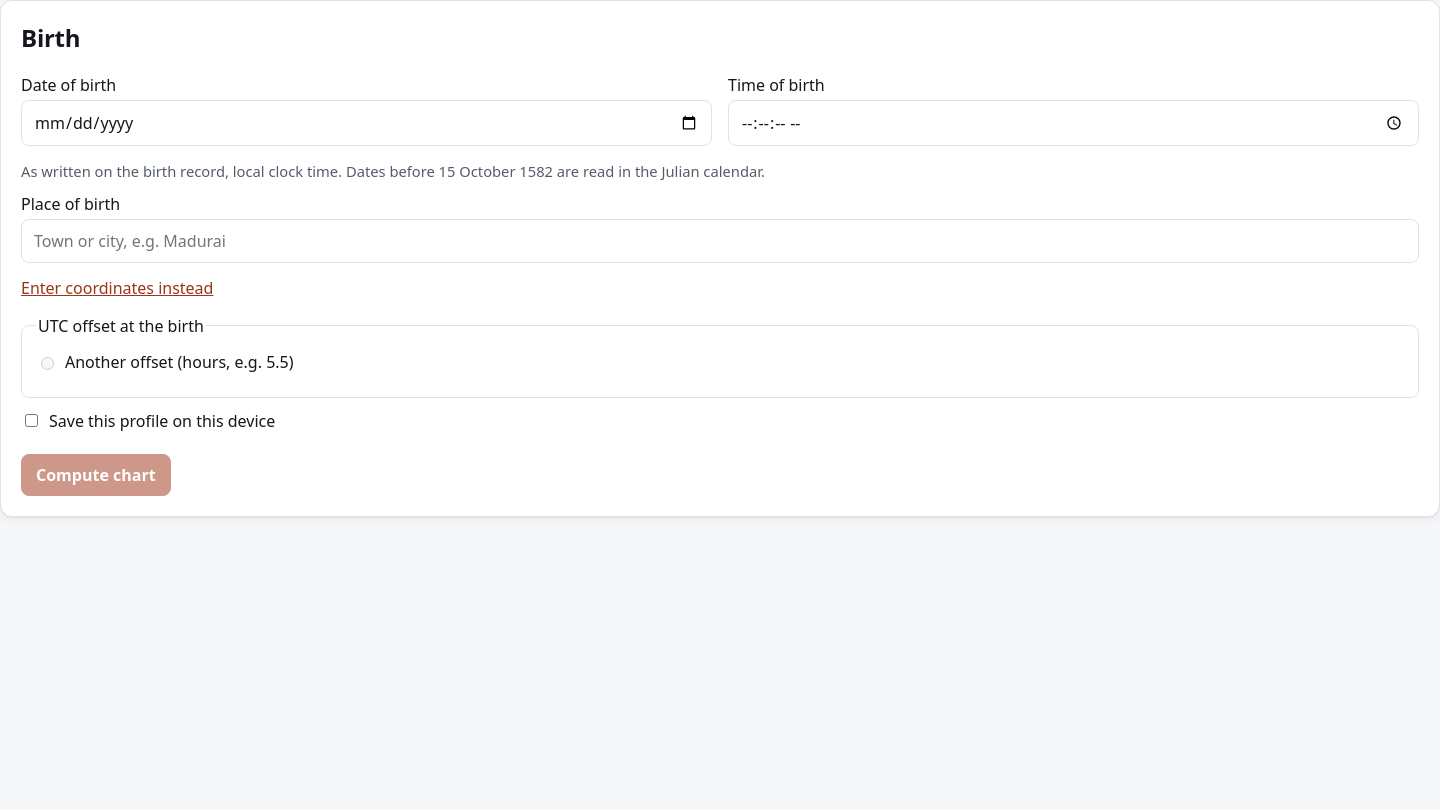
BirthForm › preselects only a reliable, unique offset
Type "1943-05-05" into the date field labelled "Date of birth" at x=366, y=123, box [21,100,712,146]
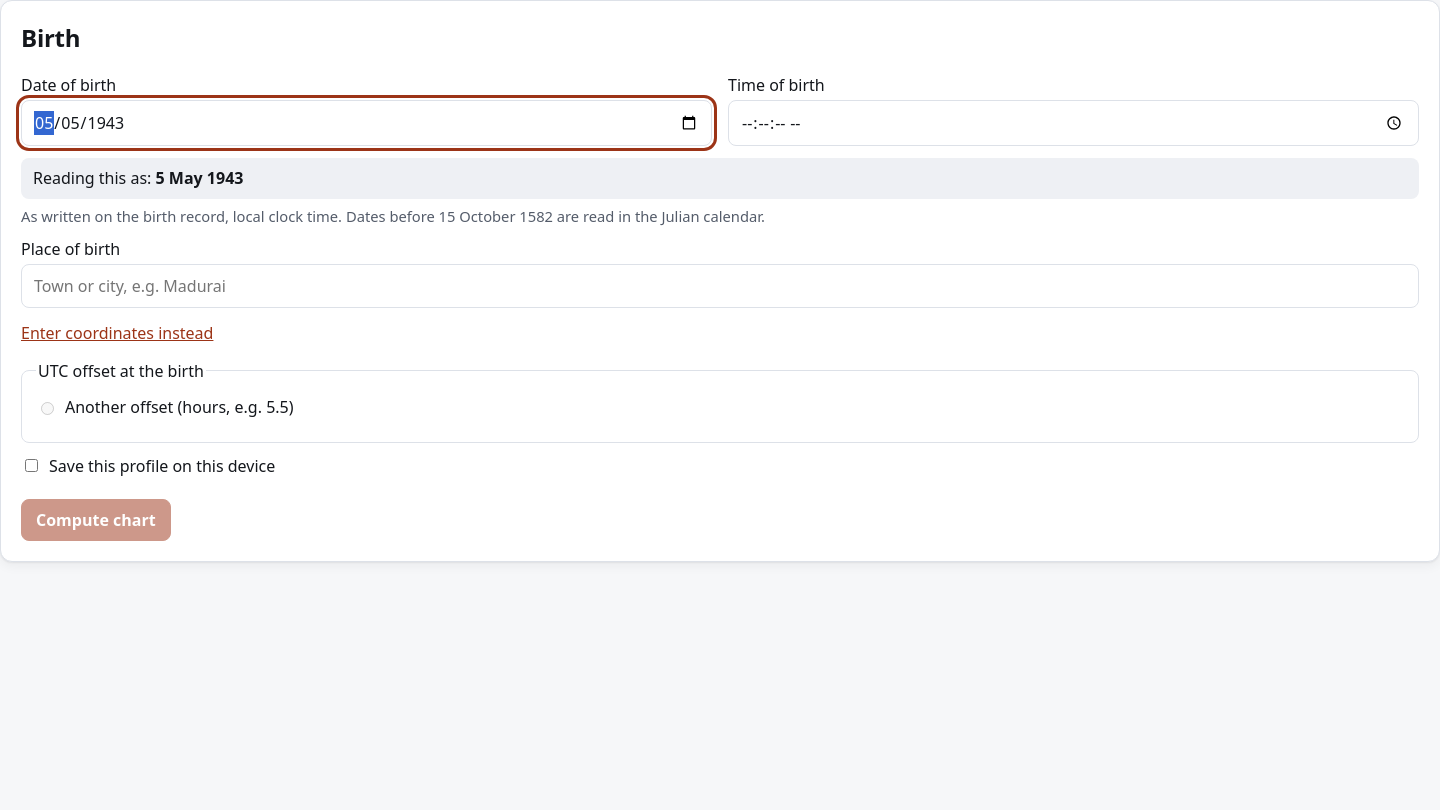
Type "14:00" into the time field labelled "Time of birth" at x=1074, y=123, box [728,100,1419,146]
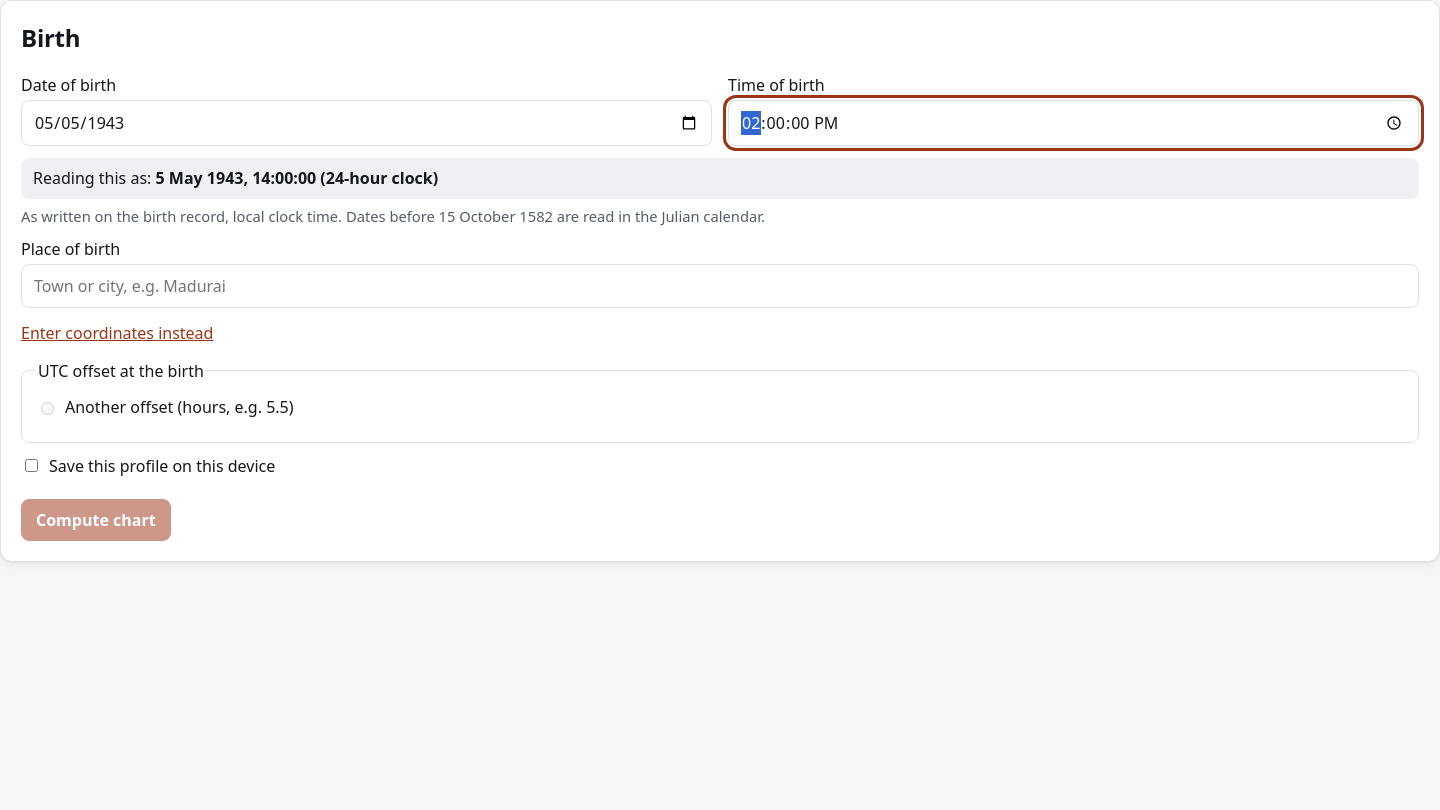
Type "Chennai" into the field with placeholder "Town or city, e.g. Madurai" at x=720, y=286, box [21,264,1419,308]
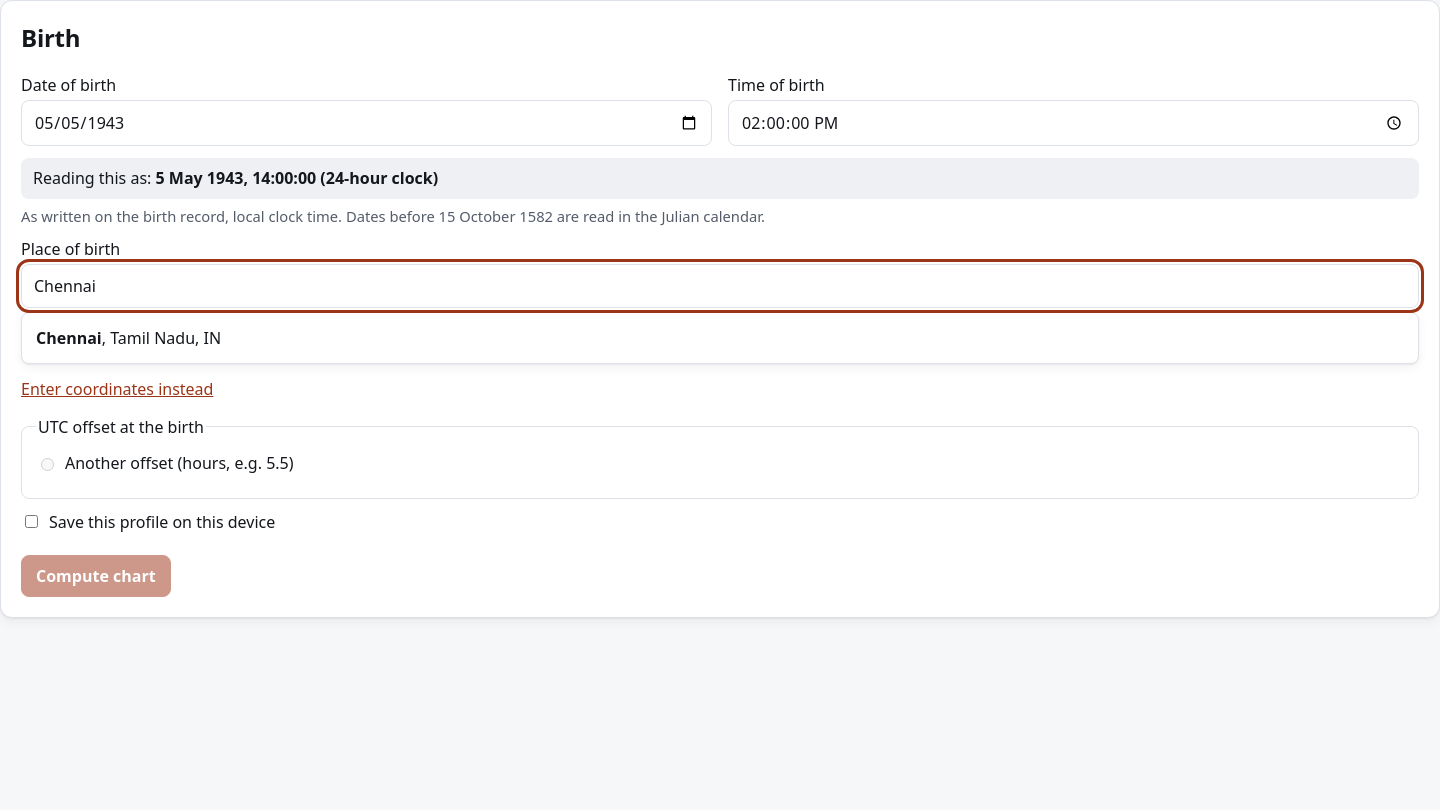
Click the button "Chennai, Tamil Nadu, IN" at x=69, y=338, box [26,316,1414,358]
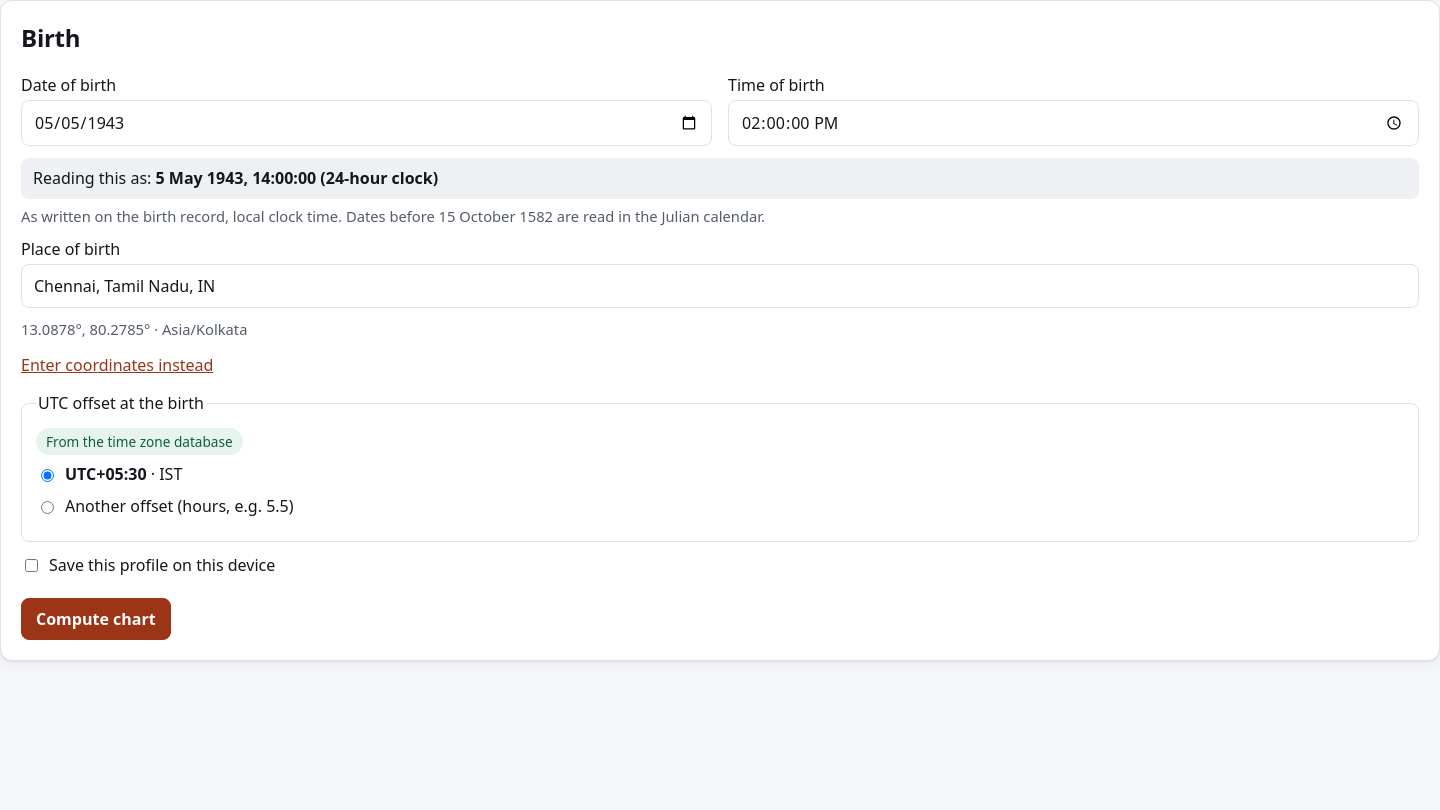
Check: the radio button labelled "UTC+05:30 · IST" is checked, box [41,469,54,482]
Check: the button "Compute chart" is enabled, box [21,598,171,640]
